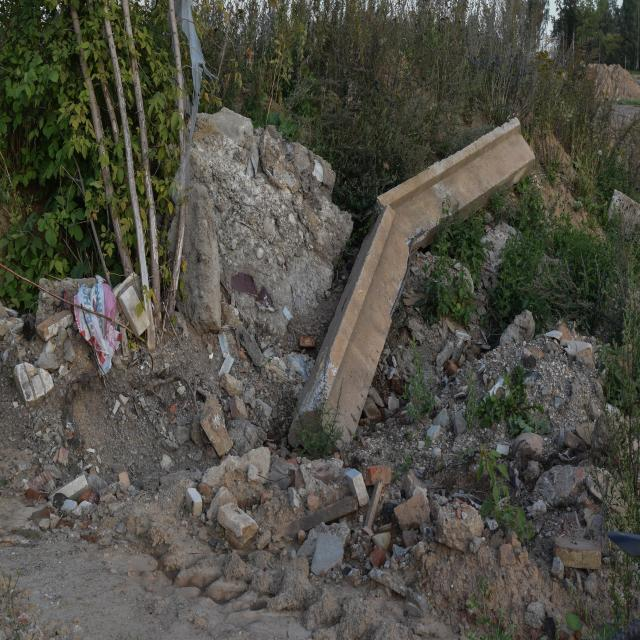entulho: (346, 114, 538, 284), (278, 250, 406, 460), (72, 274, 125, 382)
